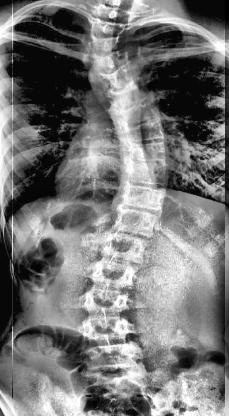Vertebrae: (76, 320, 138, 344), (86, 266, 142, 290), (108, 101, 168, 123), (124, 140, 178, 164), (98, 86, 152, 110), (76, 295, 134, 317), (90, 65, 148, 87), (124, 160, 174, 184), (97, 238, 149, 260), (118, 187, 170, 209), (112, 214, 162, 236), (122, 121, 170, 142), (82, 20, 138, 38), (84, 36, 136, 54), (86, 52, 138, 68)
